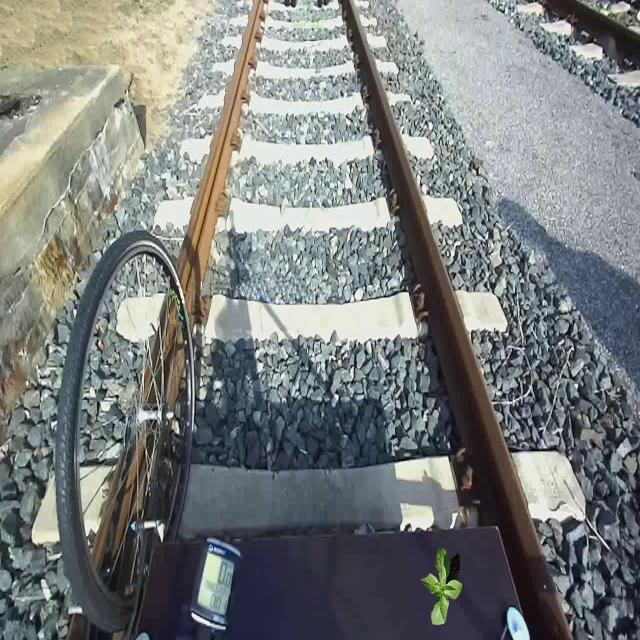Plant: (421, 545, 463, 625)
